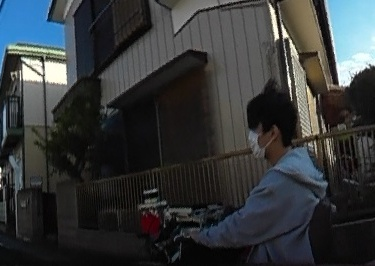person: (217, 86, 313, 266)
